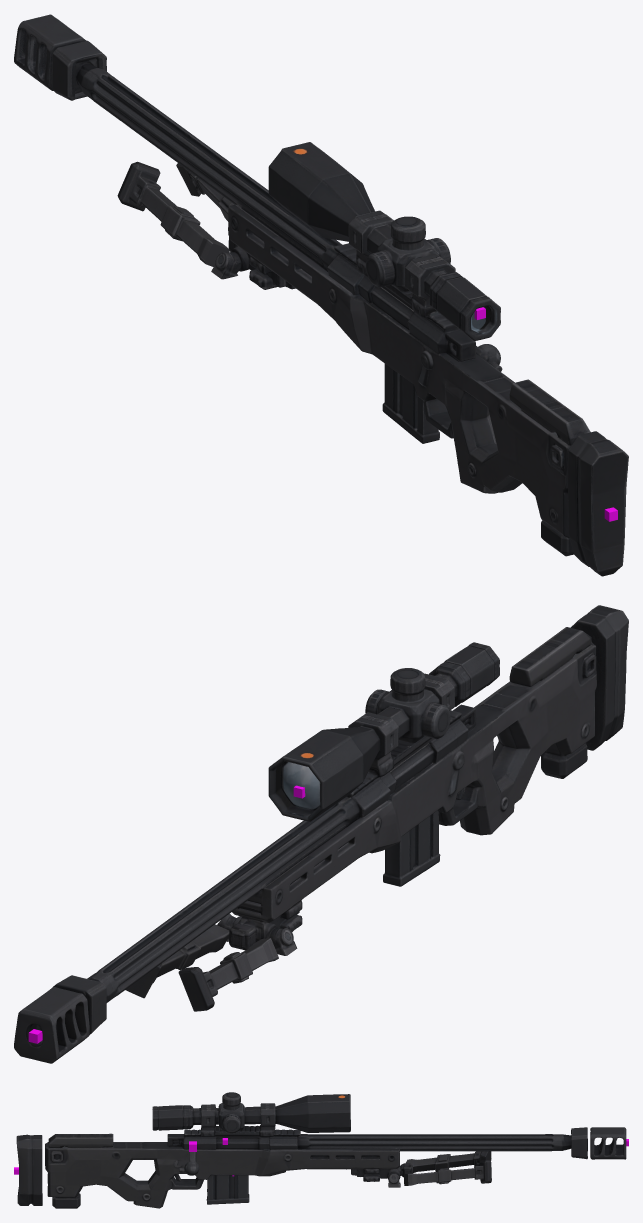
Rendered from DMR.glb.
3 renders of one model, top to bottom at view 1: azimuth 30°, elevation 25°; view 2: azimuth 150°, elevation 25°; view 3: azimuth 270°, elevation 25°, orthographic. The views are drawn at different scales.
Parts seen in each view (by area): view 1: Skin_Body_13, Skin_Body_12, Skin_Body_06, Skin_Body_11, Skin_Body_07, Skin_Body_09, Skin_Body_10, Skin_Barrel_02, Skin_Body_08, Skin_Barrel_Brake_02, Skin_Barrel_01, Skin_Body_04 (+6 smaller); view 2: Skin_Body_12, Skin_Body_13, Skin_Body_06, Skin_Body_11, Skin_Body_05, Skin_Body_08, Skin_Body_07, Skin_Barrel_Brake_01, Skin_Body_10, Skin_Barrel_02, Skin_Body_09, Skin_Body_03 (+6 smaller); view 3: Skin_Body_12, Skin_Body_13, Skin_Body_06, Skin_Body_11, Skin_Body_07, Skin_Body_08, Skin_Body_09, Skin_Body_10, Skin_Barrel_02, Skin_Barrel_01, Skin_Body_05, Skin_Body_04 (+7 smaller).
Part boxes in pixels (x1,y1,x2,y2): Skin_Body_13: [535, 406, 628, 576]; Skin_Body_12: [460, 297, 566, 542]; Skin_Body_06: [273, 148, 369, 310]; Skin_Body_11: [432, 273, 492, 483]; Skin_Body_07: [321, 186, 393, 349]; Skin_Body_09: [368, 217, 450, 383]; Skin_Body_10: [405, 254, 457, 427]; Skin_Barrel_02: [149, 118, 253, 204]; Skin_Body_08: [355, 216, 435, 365]; Skin_Barrel_Brake_02: [36, 28, 106, 100]; Skin_Barrel_01: [77, 65, 171, 144]; Skin_Body_04: [221, 185, 284, 289]; Skin_Body_12: [471, 639, 582, 830]; Skin_Body_13: [549, 605, 628, 774]; Skin_Body_06: [281, 729, 372, 882]; Skin_Body_11: [440, 643, 500, 835]; Skin_Body_05: [268, 750, 336, 914]; Skin_Body_08: [365, 673, 441, 841]; Skin_Body_07: [335, 712, 400, 853]; Skin_Barrel_Brake_01: [14, 993, 80, 1063]; Skin_Body_10: [424, 664, 467, 825]; Skin_Barrel_02: [158, 866, 261, 952]; Skin_Body_09: [372, 668, 450, 824]; Skin_Body_03: [217, 857, 296, 955]; Skin_Body_12: [67, 1106, 165, 1208]; Skin_Body_13: [16, 1134, 81, 1208]; Skin_Body_06: [291, 1094, 345, 1169]; Skin_Body_11: [148, 1105, 190, 1208]; Skin_Body_07: [258, 1099, 301, 1176]; Skin_Body_08: [231, 1092, 263, 1176]; Skin_Body_09: [209, 1092, 236, 1174]; Skin_Body_10: [184, 1104, 215, 1189]; Skin_Barrel_02: [401, 1134, 492, 1151]; Skin_Barrel_01: [486, 1134, 569, 1151]; Skin_Body_05: [336, 1094, 367, 1180]; Skin_Body_04: [361, 1134, 392, 1187].
Bounding box in the file's own units: 0.4598 × 0.9251 × 4.62.
Materials: 2 (1 with a texture image).
